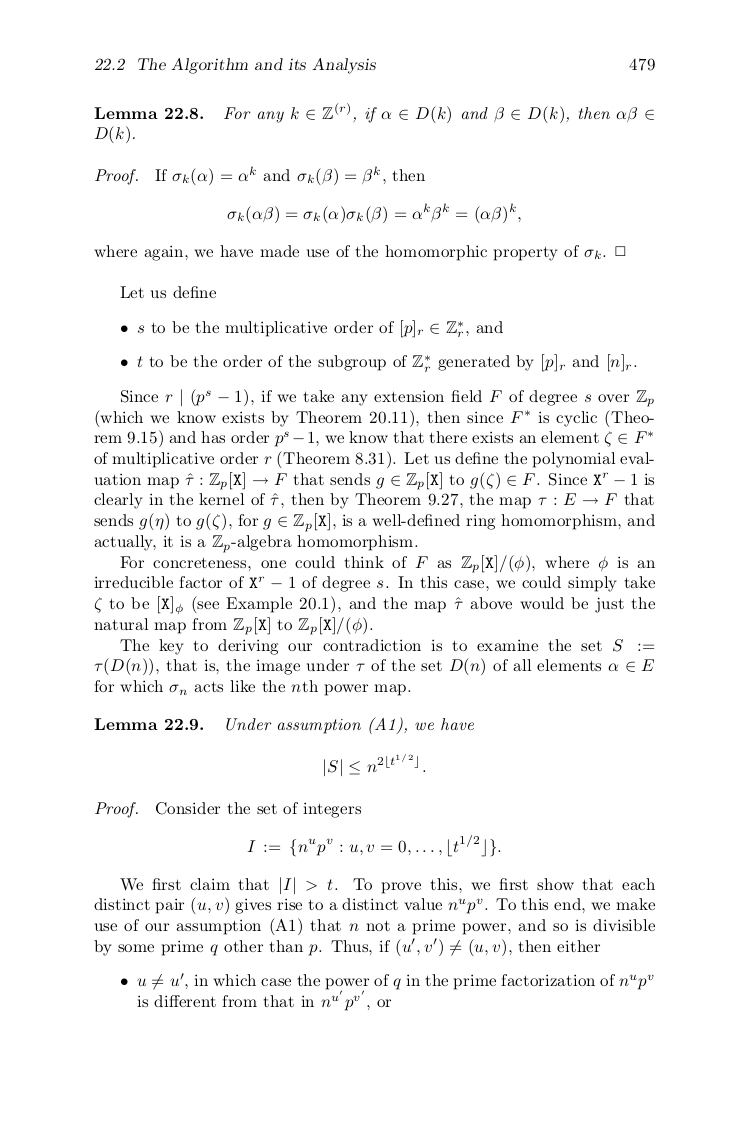formula: (227, 202, 520, 224), (247, 834, 500, 857), (324, 753, 425, 777)
